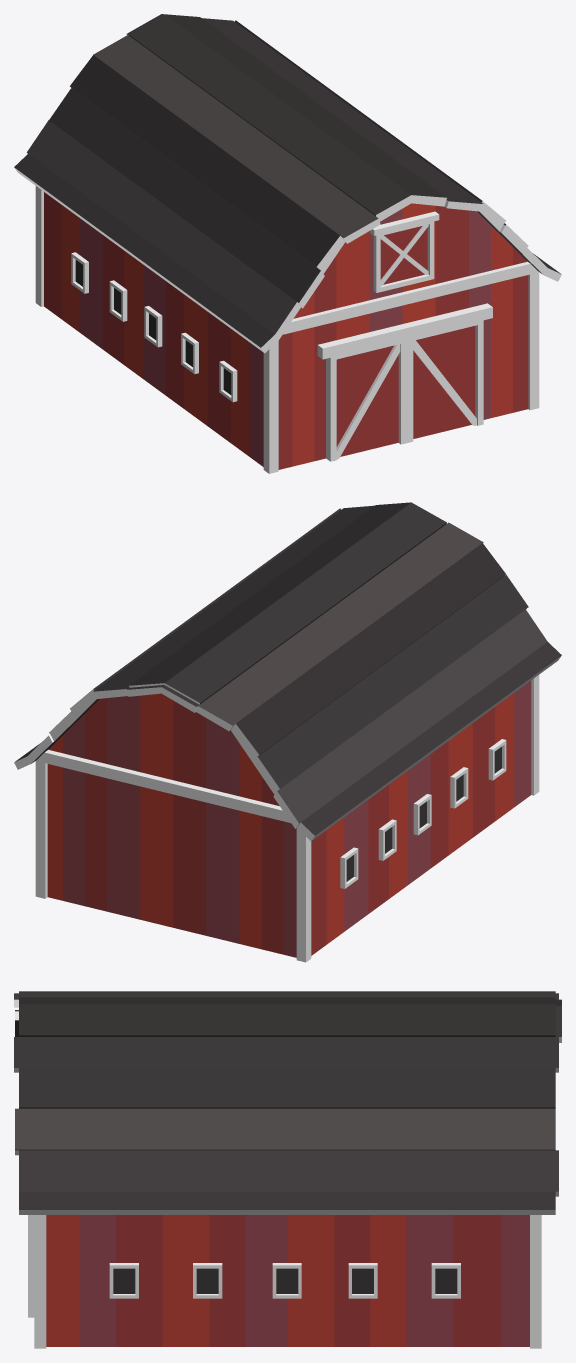
Rendered from Barn.obj.
3 views of the same model, one above another, from view 1: azimuth 30°, elevation 25°; view 2: azimuth 150°, elevation 25°; view 3: azimuth 270°, elevation 25° (orthographic). The views are drawn at different scales.
Parts seen in each view (by area): view 1: {mesh}Barn_Cube.009; view 2: {mesh}Barn_Cube.009; view 3: {mesh}Barn_Cube.009.
Part boxes in pixels (bbox=[...]): {mesh}Barn_Cube.009: bbox=[14, 14, 561, 473]; {mesh}Barn_Cube.009: bbox=[14, 502, 561, 962]; {mesh}Barn_Cube.009: bbox=[14, 991, 561, 1348].
Size of the model in its own units: 290 by 231 by 420.
